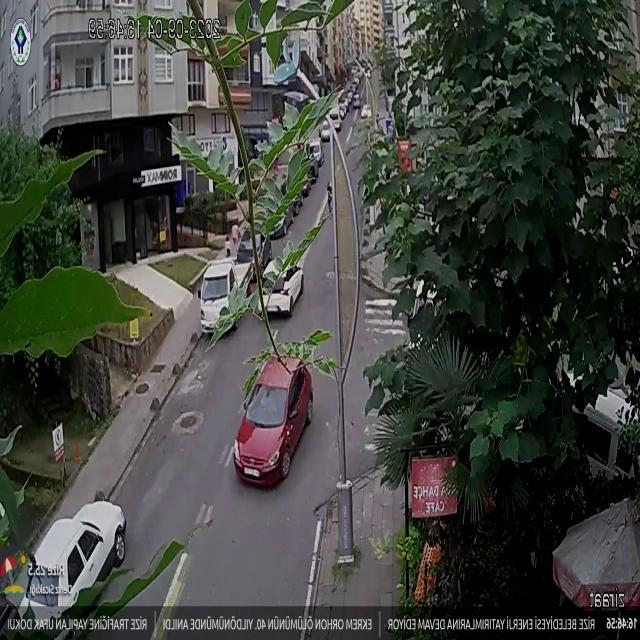Car: (232, 356, 314, 491), (258, 254, 303, 319)
